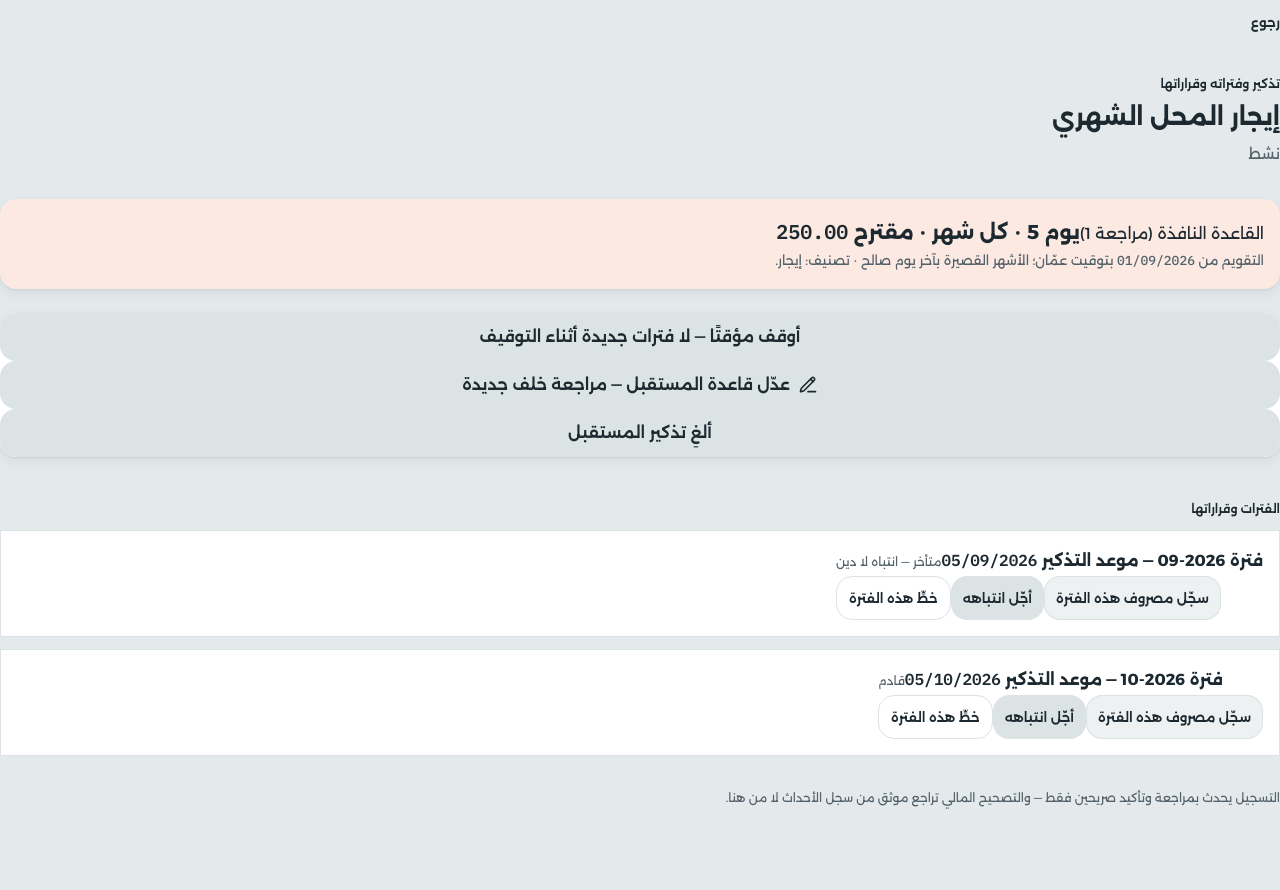
Test case: R2 (M-11/D13) — توصيل حد «اليوم» الكنوني بعمّان في أسطح المصروف المتكرر › افتراضي التأجيل المخصص في التفصيل = اليوم بعمّان + 7 أيام بحساب النواة الصحيح
Click the button "أجّل انتباهه" below "2026-09" at (997, 598), box [951,576,1044,620]
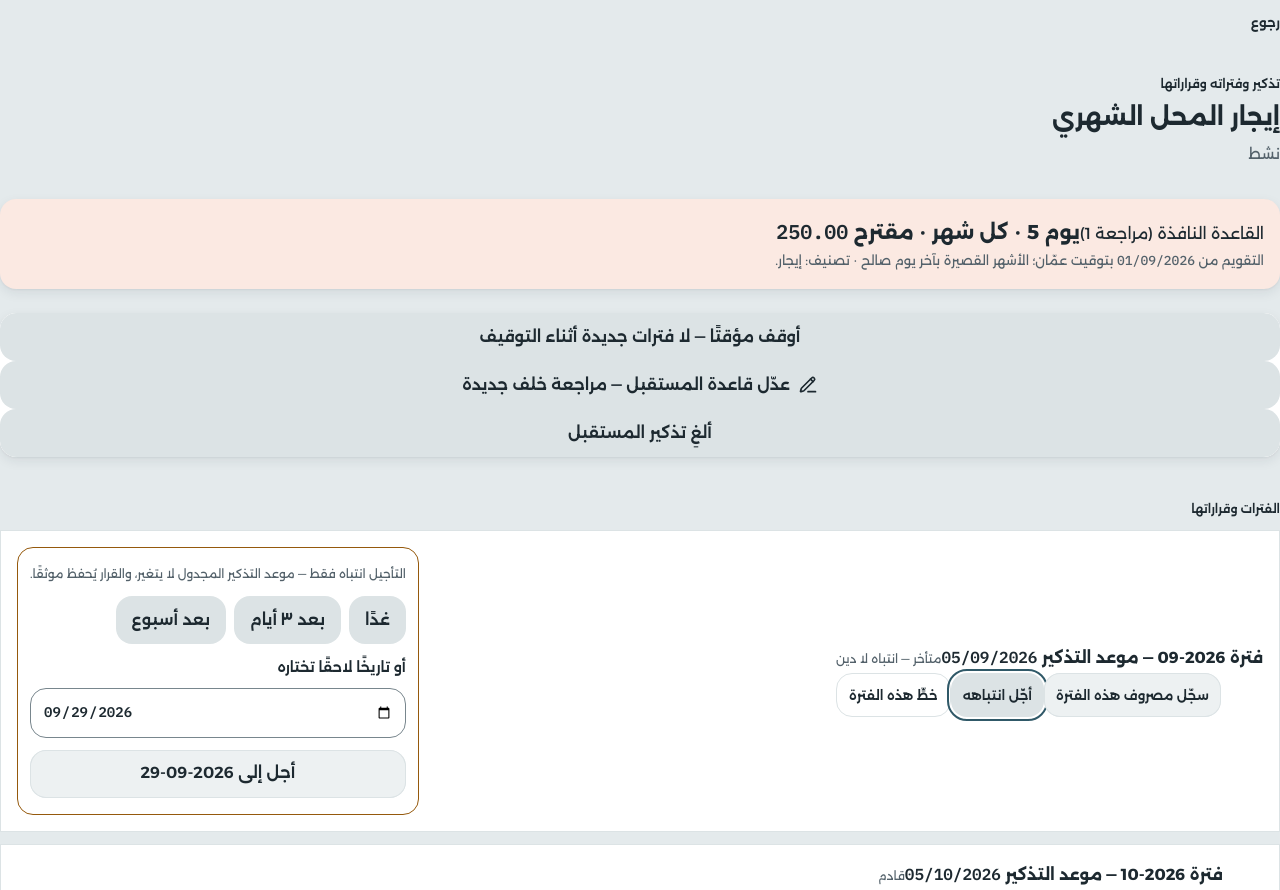
Now the date field labelled "أو تاريخًا لاحقًا تختاره" holds "2026-09-29", box [30,688,406,738]
